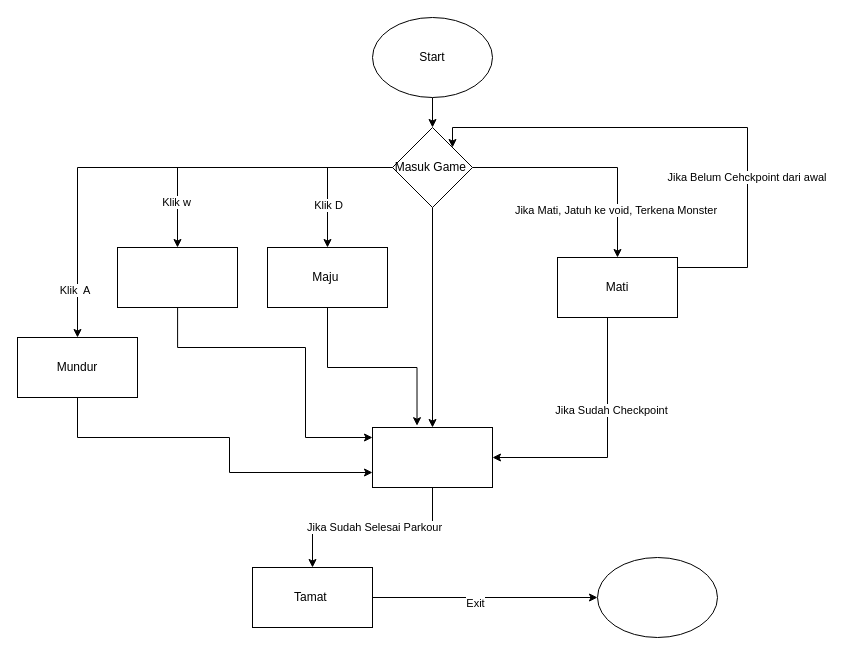
This 846x655 diagram has some shape labels left out. The shapes that lost their labels are listed below. From the top down, each one's centre as x and y in pixels, then its label:
At (x=177, y=277): "Lompat".
At (x=432, y=457): "Checkpoint".
At (x=657, y=597): "End".
